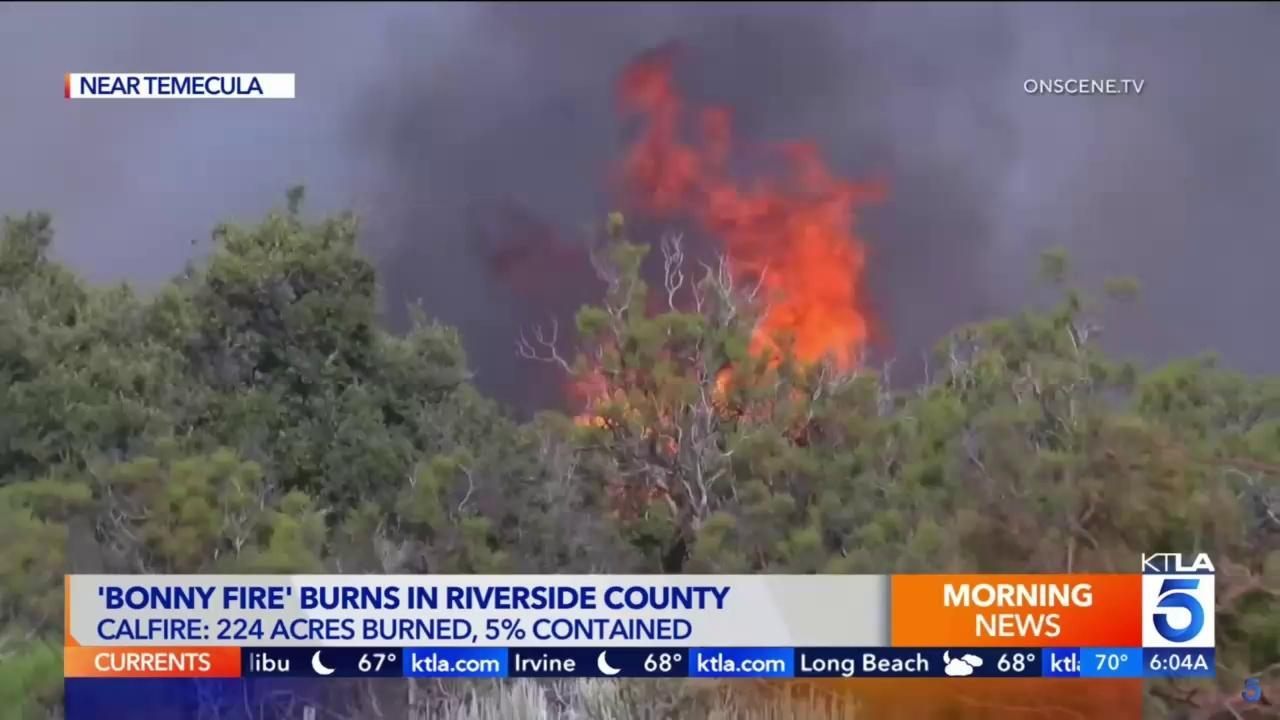fire: (561, 38, 898, 455)
smoke: (345, 3, 1050, 433)
